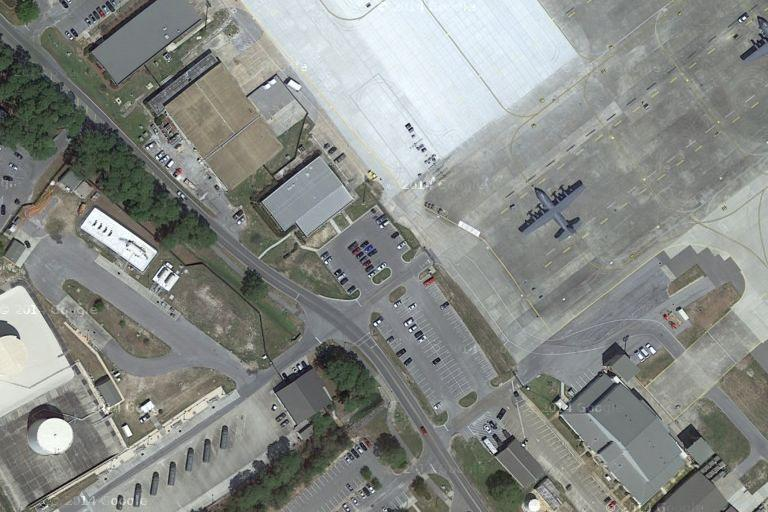C-130: (519, 182, 591, 243)
